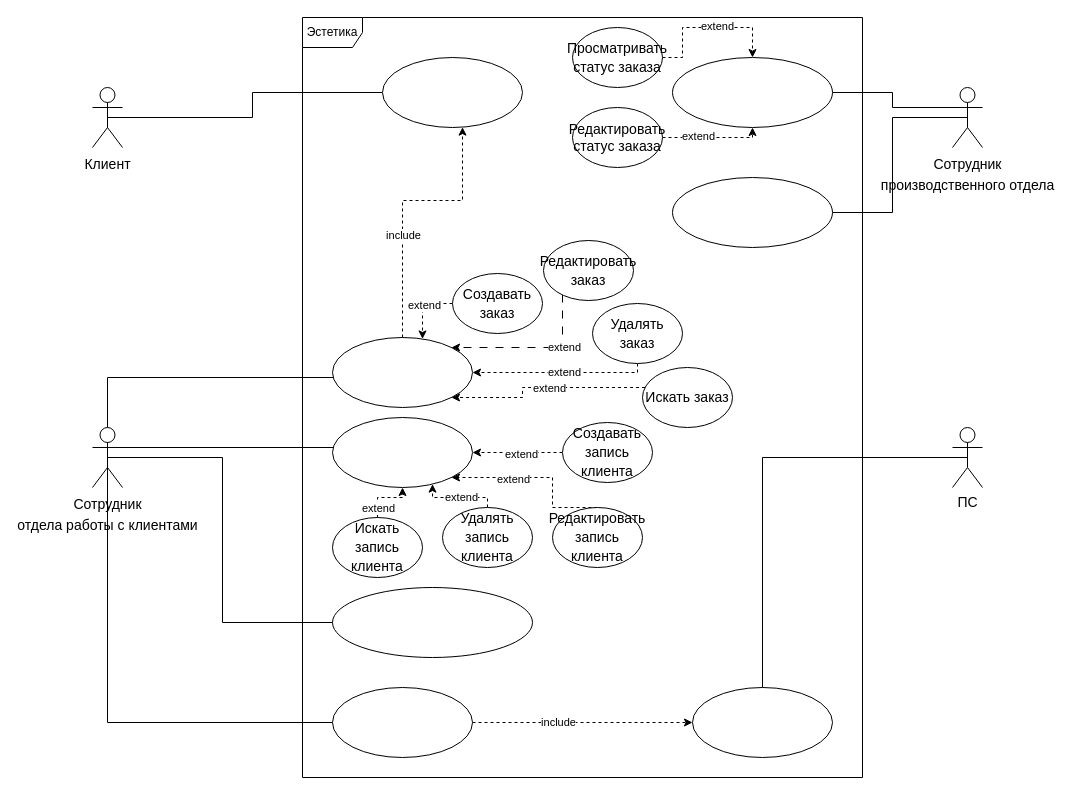
Some shapes in this 1071 by 795 pixel diagram are drawn without their labels. Each missing label, with the centre of its shape:
Осуществлять платежные транзакции: point (762, 722)
Оформлять товарный чек в случае предоплаты: point (402, 722)
Получать сводную информацию о загруженности сотрудников производственного отдела: point (432, 622)
Получать сводную информацию о заказе: point (752, 212)
Получать сводную информацию о заказе, его статусе и ходе работ: point (452, 92)
Работать с информацией о заказах: point (402, 372)
Работать с информацией о клиенте: point (402, 452)
Работать со статусом заказа: point (752, 92)
